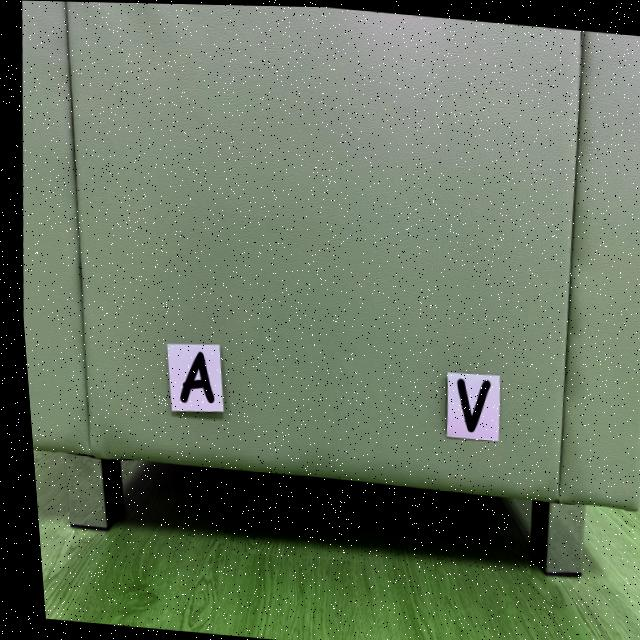A: (174, 351, 207, 402)
V: (451, 377, 485, 430)
